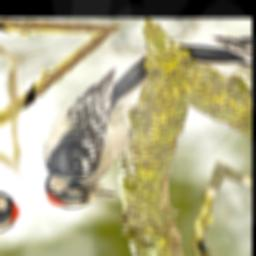Woodpecker: (0, 44, 207, 217)
